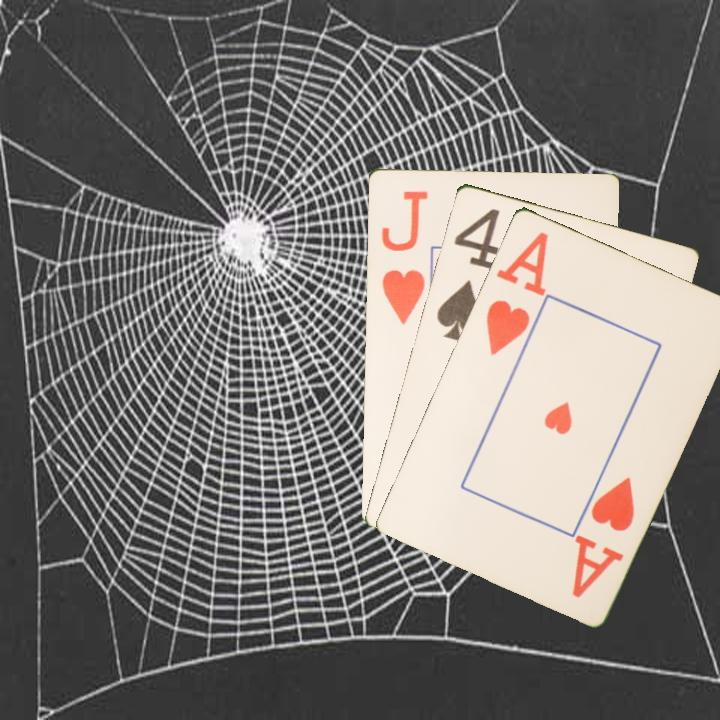4s: (432, 204, 502, 344)
Ah: (482, 227, 551, 358), (568, 472, 638, 601)
Jh: (377, 186, 429, 327)
